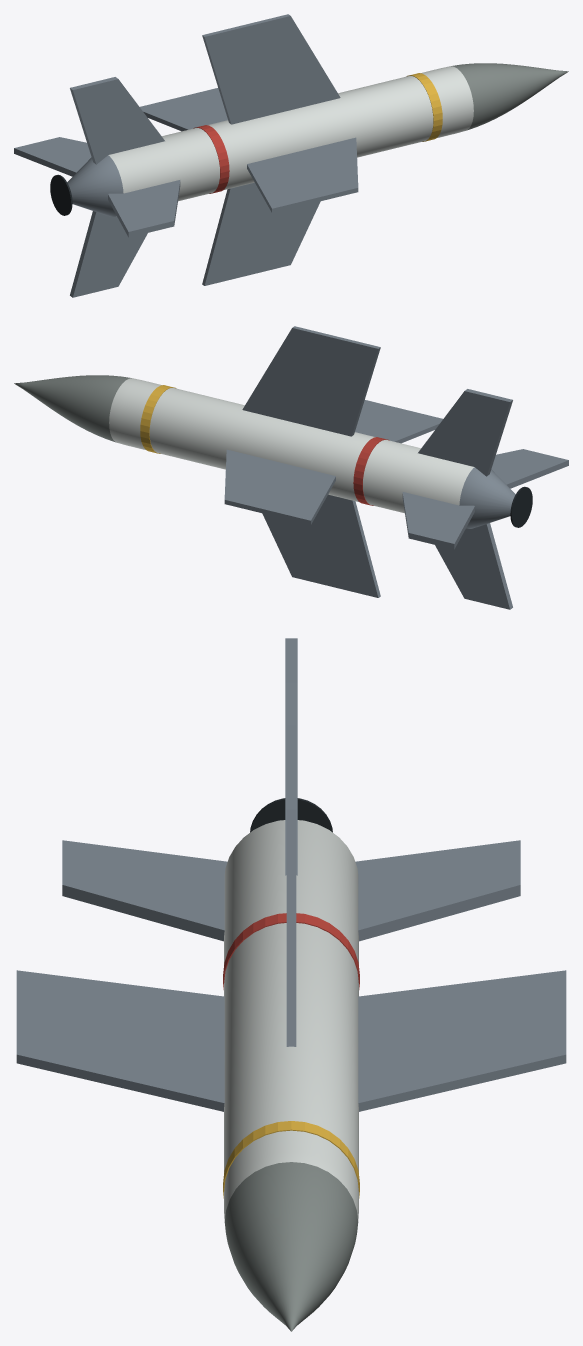
Rendered from rbs15f.glb.
3 views of the same model, one above another, from view 1: azimuth 30°, elevation 25°; view 2: azimuth 150°, elevation 25°; view 3: azimuth 270°, elevation 25° (orthographic). The views are drawn at different scales.
Parts seen in each view (by area): view 1: rbs15f; view 2: rbs15f; view 3: rbs15f.
Boxes of the visible parts, <box> form: rbs15f: <box>14,14,568,297</box>; rbs15f: <box>14,326,568,609</box>; rbs15f: <box>16,638,566,1331</box>.
Bounding box in the file's own units: 10 × 4.68 × 4.68.
